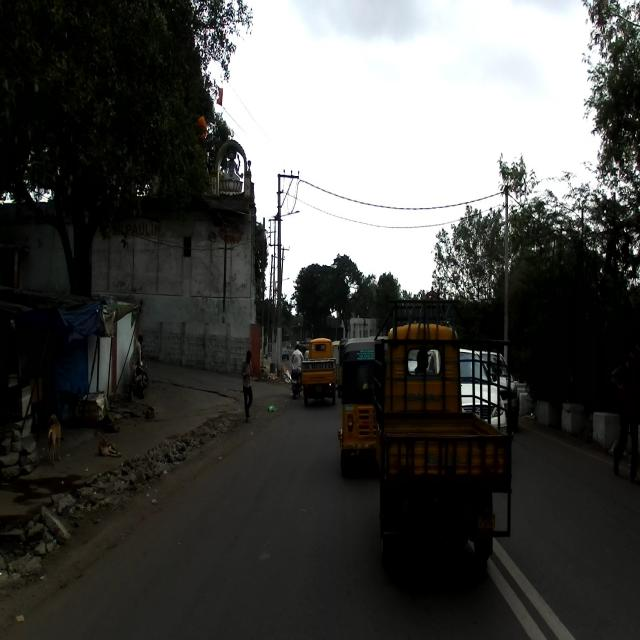autorickshaw: (372, 297, 514, 586)
